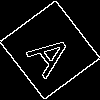A: (25, 25, 83, 81)
